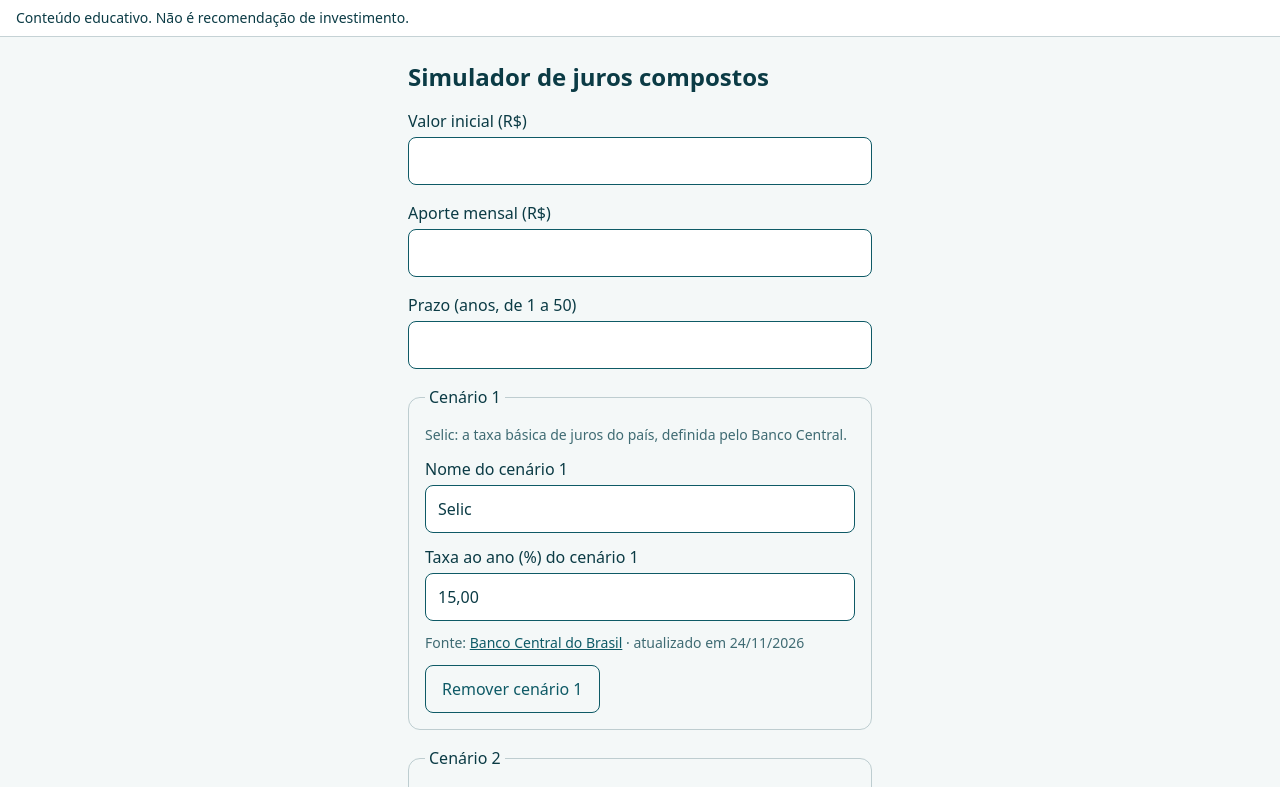
Test case: InvestmentSimulatorPage › showsTheDisclaimerAndNote
Check: the text "Conteúdo educativo. Não é recomendação de investimento." is shown, box x1=0 y1=0 x2=1279 y2=37
Check: the field showing "15,00" is shown, box x1=425 y1=573 x2=855 y2=621
Type "5.000" into the field labelled "Valor inicial (R$)" at (640, 161), box x1=408 y1=137 x2=872 y2=185
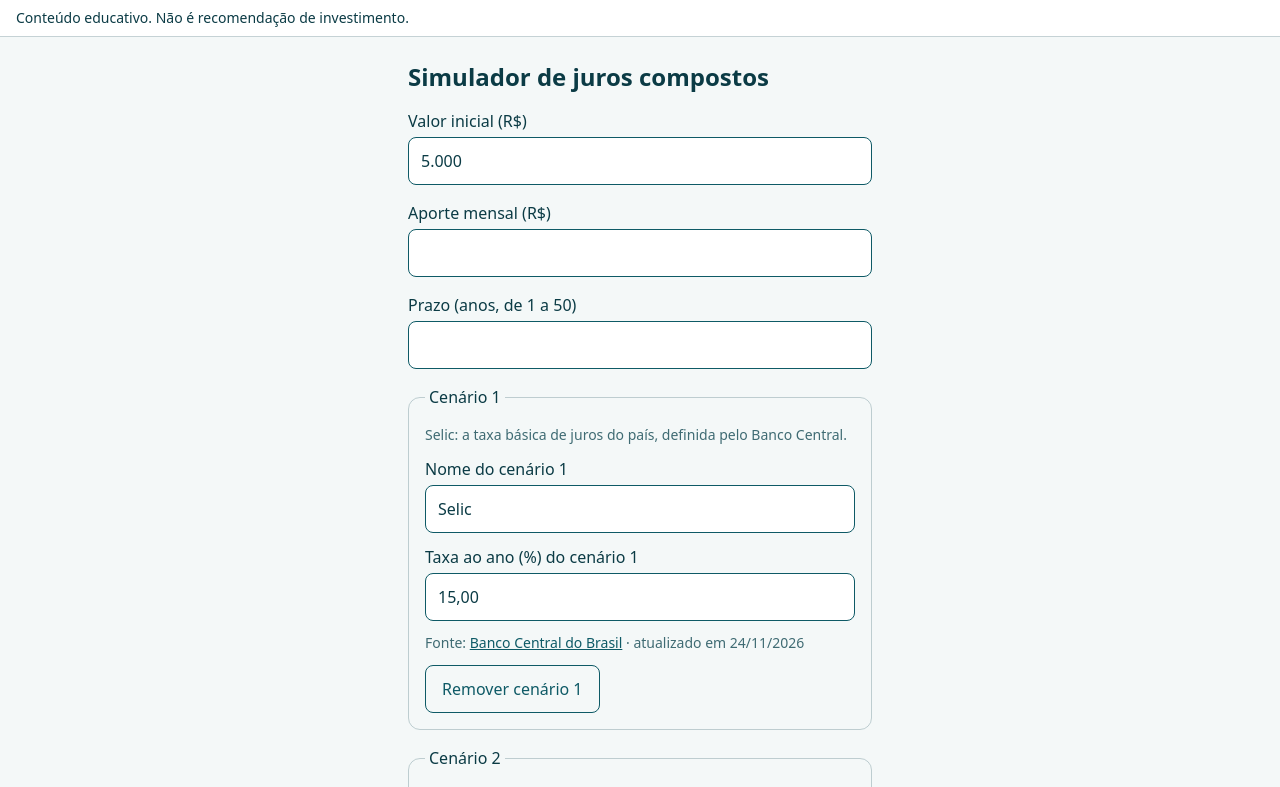
Type "200" into the field labelled "Aporte mensal (R$)" at (640, 253), box x1=408 y1=229 x2=872 y2=277
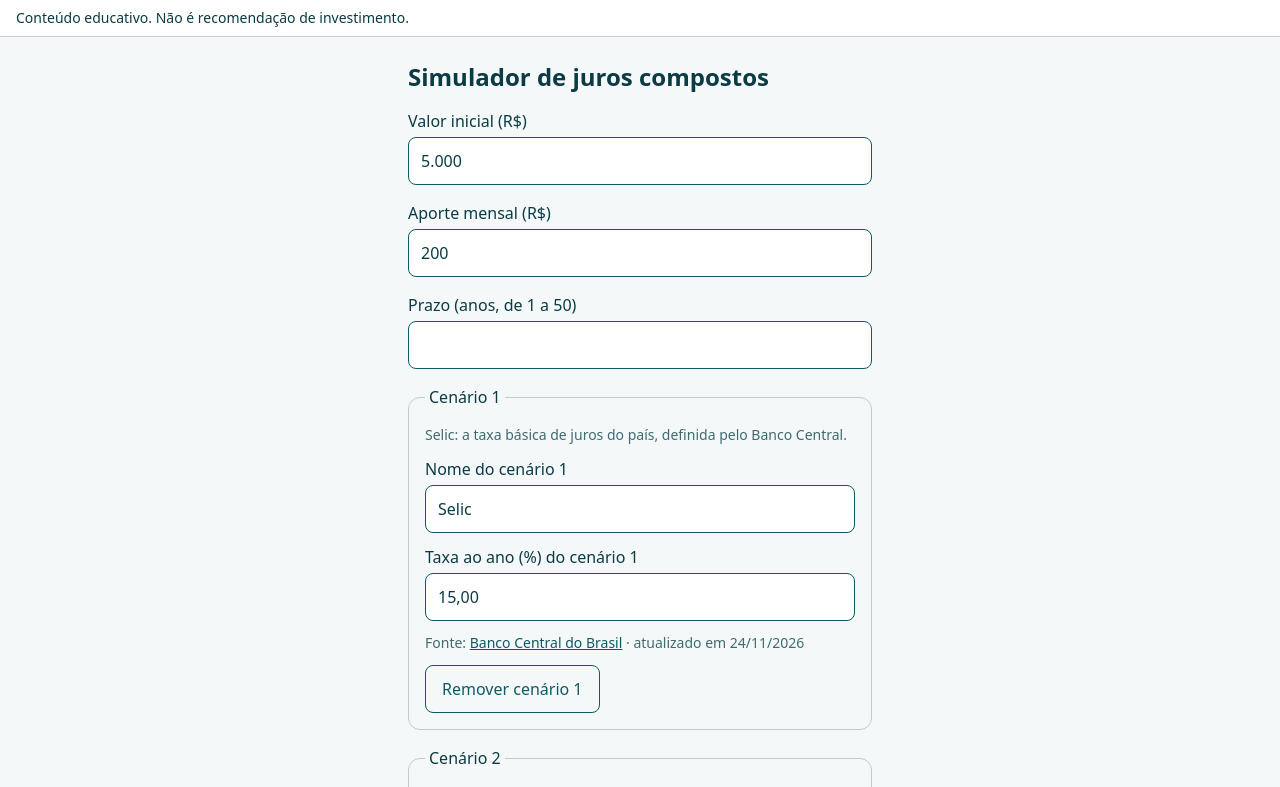
Type "10" into the field labelled "Prazo (anos, de 1 a 50)" at (640, 345), box x1=408 y1=321 x2=872 y2=369
(page scrolled)
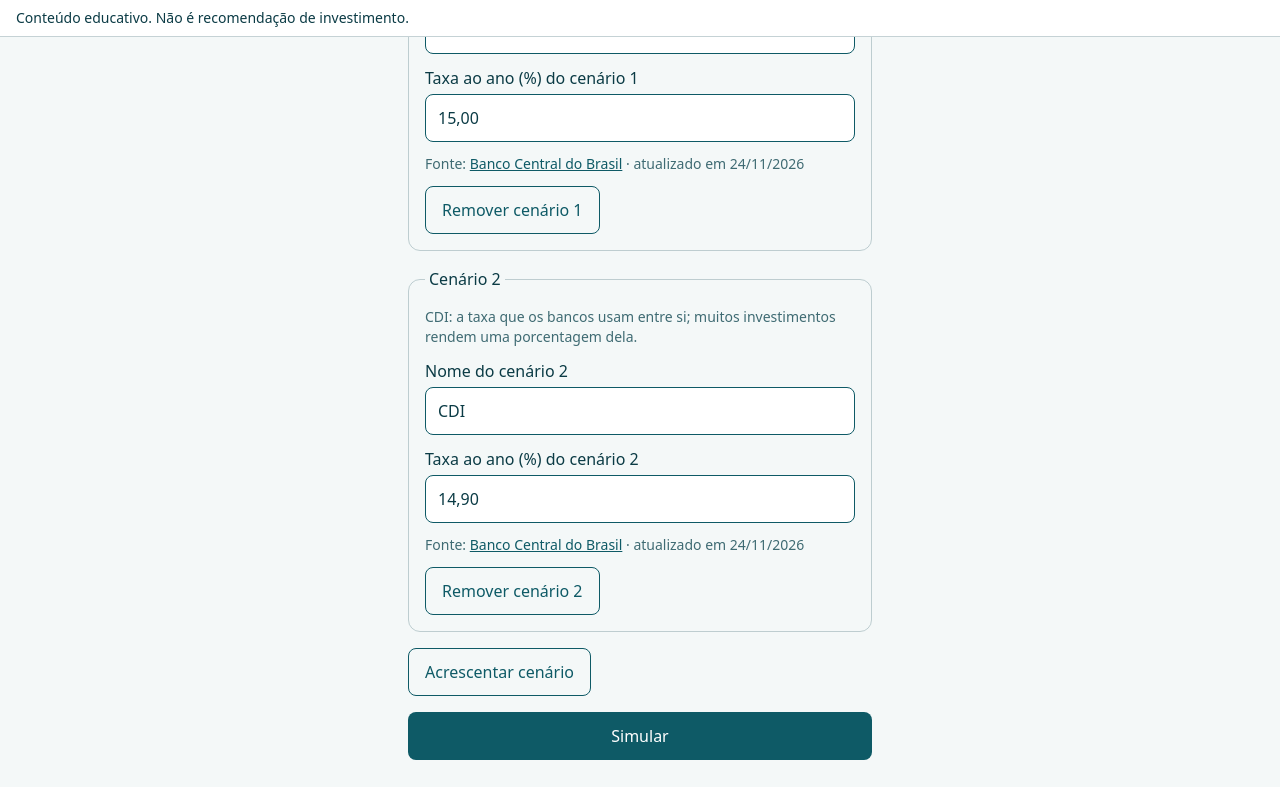
Click the button "Simular" at (640, 736), box x1=408 y1=712 x2=872 y2=760
(page scrolled)
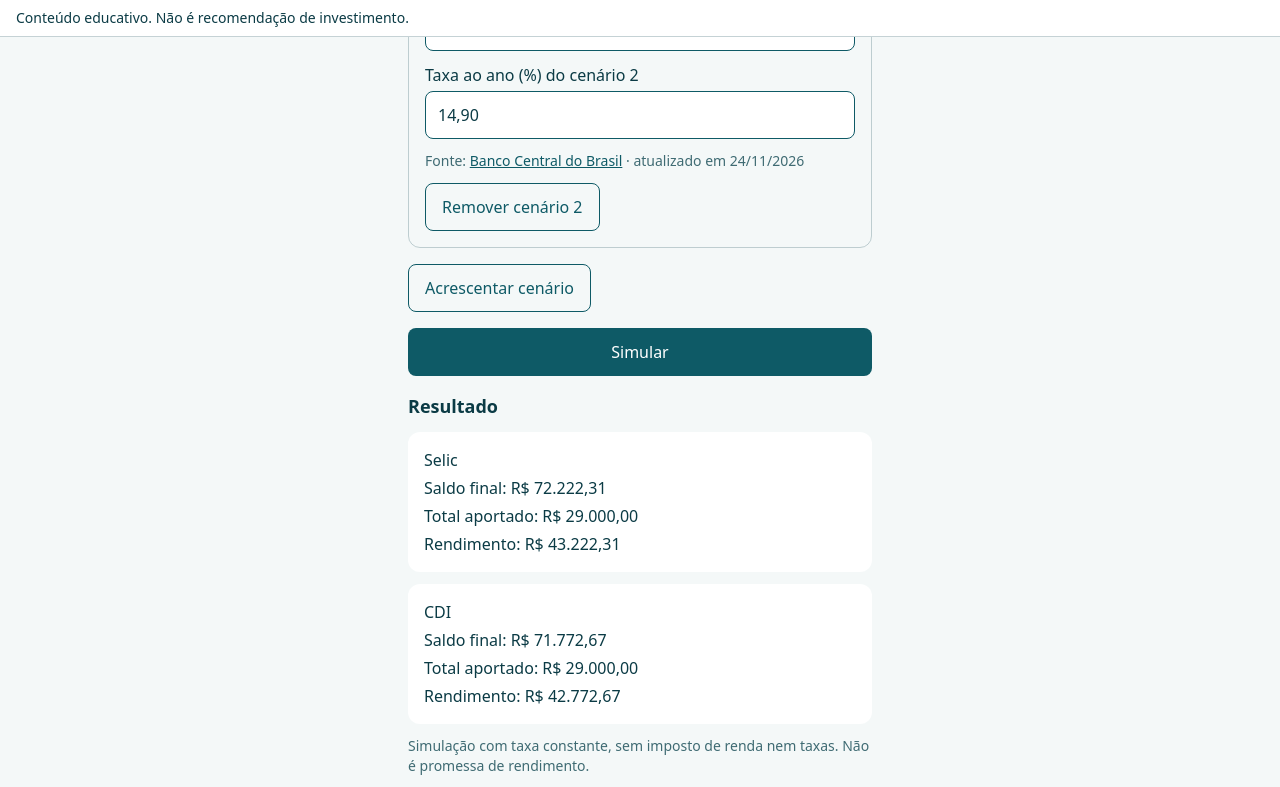
Check: the text "Simulação com taxa constante, sem imposto de renda nem taxas. Não é promessa de rendimento." is shown, box x1=408 y1=736 x2=869 y2=775
Check: the heading "Selic" is shown, box x1=424 y1=449 x2=458 y2=471
Check: the heading "CDI" is shown, box x1=424 y1=601 x2=451 y2=623
